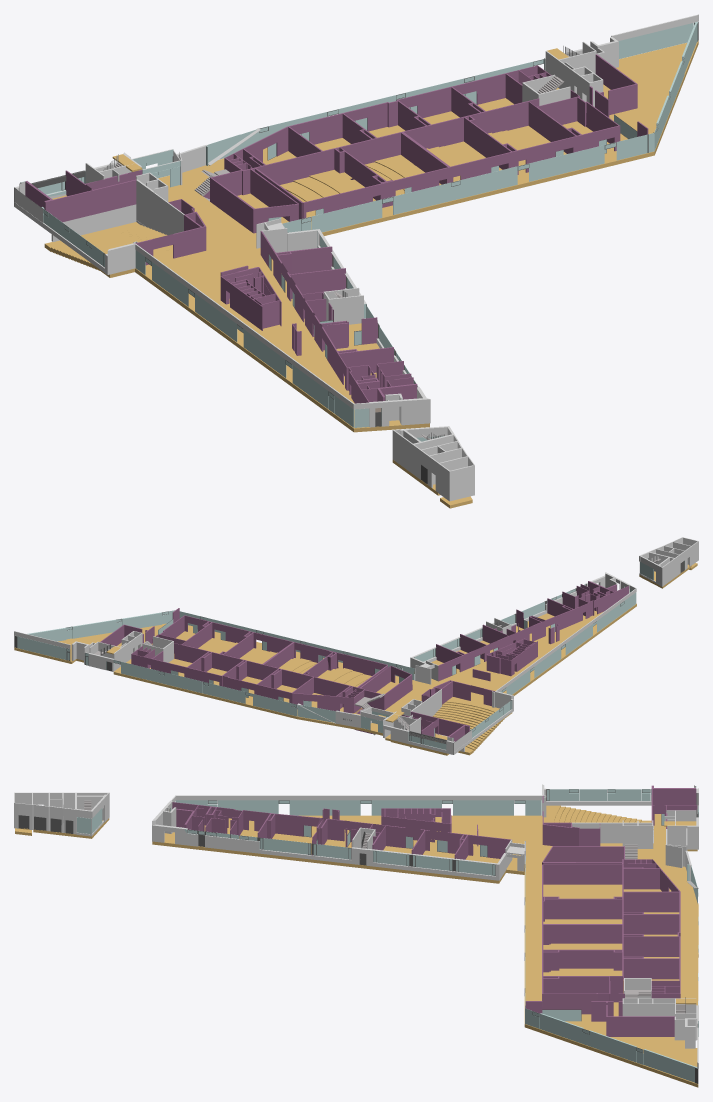
File: Floor1.fbx
3 renders of one model, top to bottom at view 1: azimuth 30°, elevation 25°; view 2: azimuth 150°, elevation 25°; view 3: azimuth 270°, elevation 25°, orthographic. The views are drawn at different scales.
Visible parts, largest first — view 1: Internal_Walls.002, Floor Main, Internal_Walls.030, Floor Main.001, Floor Main.003, Internal_Walls.003, Internal_Walls.001, Internal_Walls.011, Floor Main.002, Internal_Walls, Outer Wall.056, Glass Blue.026 (+15 smaller); view 2: Internal_Walls.002, Internal_Walls.030, Floor Main, Floor Main.001, Internal_Walls.001, Internal_Walls, Internal_Walls.011, Floor Main.002, Internal_Walls.003, Floor Main.003, Outer Wall.056, Glass Blue.039 (+11 smaller); view 3: Internal_Walls.002, Floor Main, Internal_Walls.030, Floor Main.001, Outer Wall.056, Floor Main.003, Floor Main.002, Internal_Walls.001, Internal_Walls.026, Internal_Walls, Internal_Walls.011, Internal_Walls.003 (+18 smaller).
Boxes of the visible parts, x1=… form: Internal_Walls.002: x1=210, y1=65, x2=620, y2=233; Floor Main: x1=135, y1=88, x2=654, y2=432; Internal_Walls.030: x1=260, y1=231, x2=393, y2=389; Floor Main.001: x1=154, y1=258, x2=401, y2=431; Floor Main.003: x1=603, y1=40, x2=698, y2=154; Internal_Walls.003: x1=25, y1=170, x2=142, y2=222; Internal_Walls.001: x1=220, y1=267, x2=281, y2=330; Internal_Walls.011: x1=134, y1=199, x2=206, y2=265; Floor Main.002: x1=52, y1=158, x2=224, y2=277; Internal_Walls: x1=346, y1=365, x2=417, y2=403; Outer Wall.056: x1=135, y1=243, x2=354, y2=408; Glass Blue.026: x1=529, y1=145, x2=604, y2=181; Internal_Walls.002: x1=131, y1=615, x2=412, y2=713; Internal_Walls.030: x1=436, y1=598, x2=589, y2=681; Floor Main: x1=113, y1=625, x2=499, y2=730; Floor Main.001: x1=431, y1=603, x2=636, y2=695; Internal_Walls.001: x1=486, y1=638, x2=537, y2=676; Internal_Walls: x1=578, y1=581, x2=628, y2=616; Internal_Walls.011: x1=421, y1=680, x2=495, y2=706; Floor Main.002: x1=298, y1=697, x2=512, y2=755; Internal_Walls.003: x1=401, y1=711, x2=469, y2=741; Floor Main.003: x1=14, y1=623, x2=166, y2=663; Outer Wall.056: x1=495, y1=588, x2=636, y2=691; Glass Blue.039: x1=17, y1=636, x2=66, y2=660; Internal_Walls.002: x1=542, y1=846, x2=680, y2=1014; Floor Main: x1=499, y1=806, x2=698, y2=1024; Internal_Walls.030: x1=243, y1=810, x2=511, y2=859; Floor Main.001: x1=152, y1=815, x2=509, y2=883; Outer Wall.056: x1=175, y1=795, x2=543, y2=815; Floor Main.003: x1=524, y1=1024, x2=698, y2=1087; Floor Main.002: x1=542, y1=805, x2=698, y2=903; Internal_Walls.001: x1=381, y1=808, x2=451, y2=842; Internal_Walls.026: x1=606, y1=1005, x2=674, y2=1036; Internal_Walls: x1=172, y1=802, x2=243, y2=835; Internal_Walls.011: x1=542, y1=795, x2=600, y2=846; Internal_Walls.003: x1=651, y1=785, x2=697, y2=828.
Bounding box in the file's own units: 11767 × 1099 × 12160.
